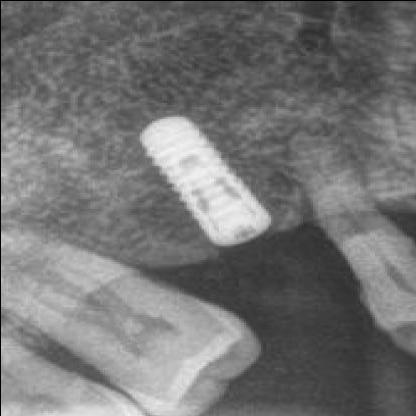ITI: (112, 97, 291, 255)
